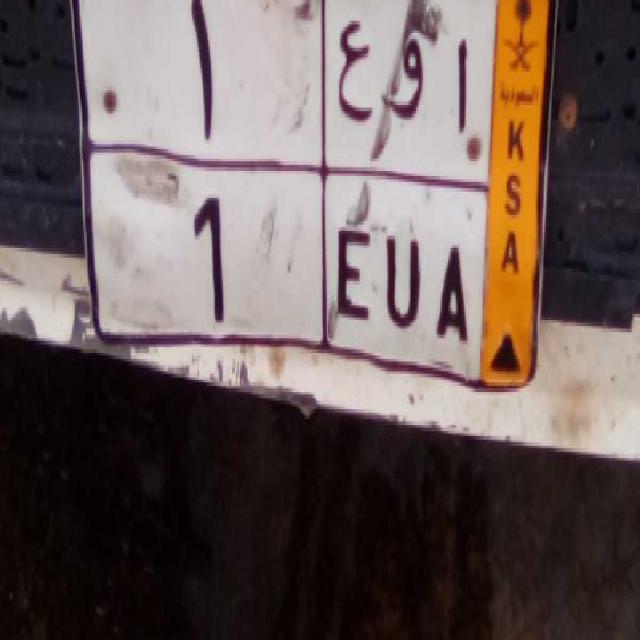license_plate: (91, 150, 482, 380)
